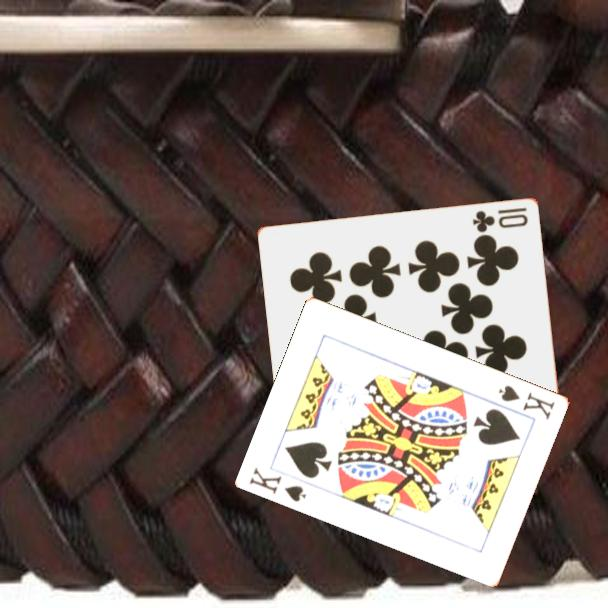c10: (469, 204, 531, 234)
s13: (495, 381, 558, 422), (246, 464, 309, 505)
